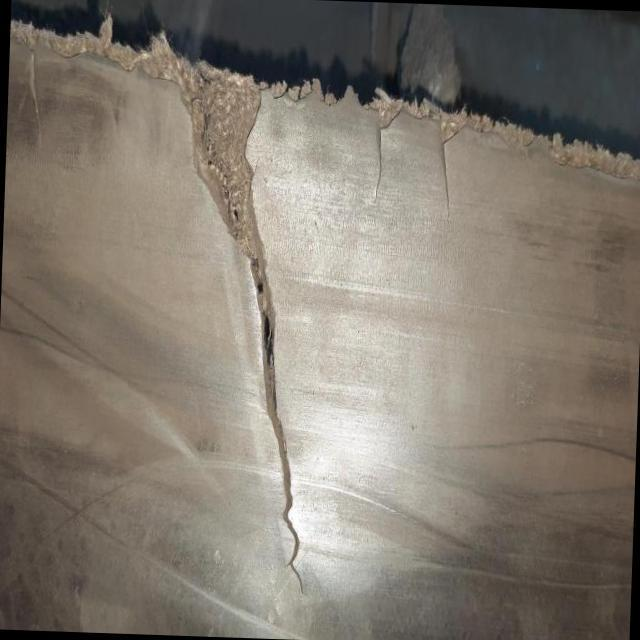Tear: (173, 56, 317, 600), (357, 108, 407, 206), (433, 122, 470, 215)
